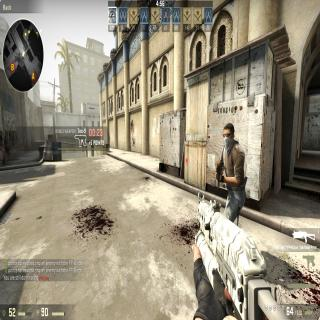T-Body: (218, 124, 246, 232)
T-Head: (221, 123, 234, 153)
